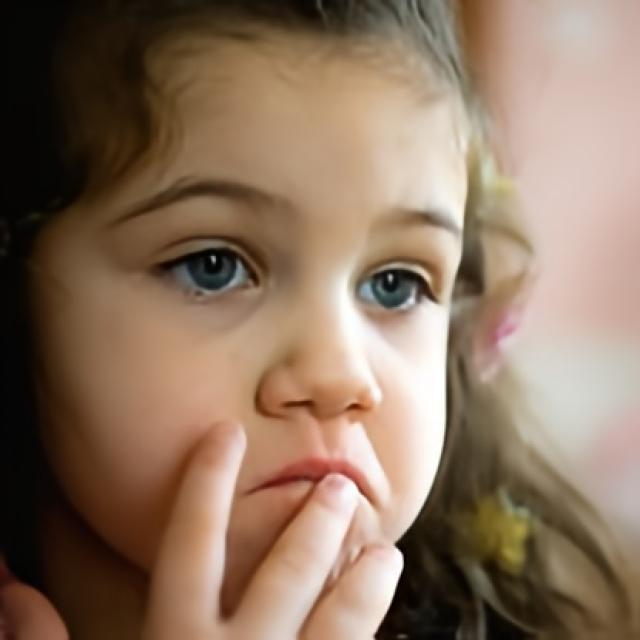sad: (35, 26, 470, 620)
